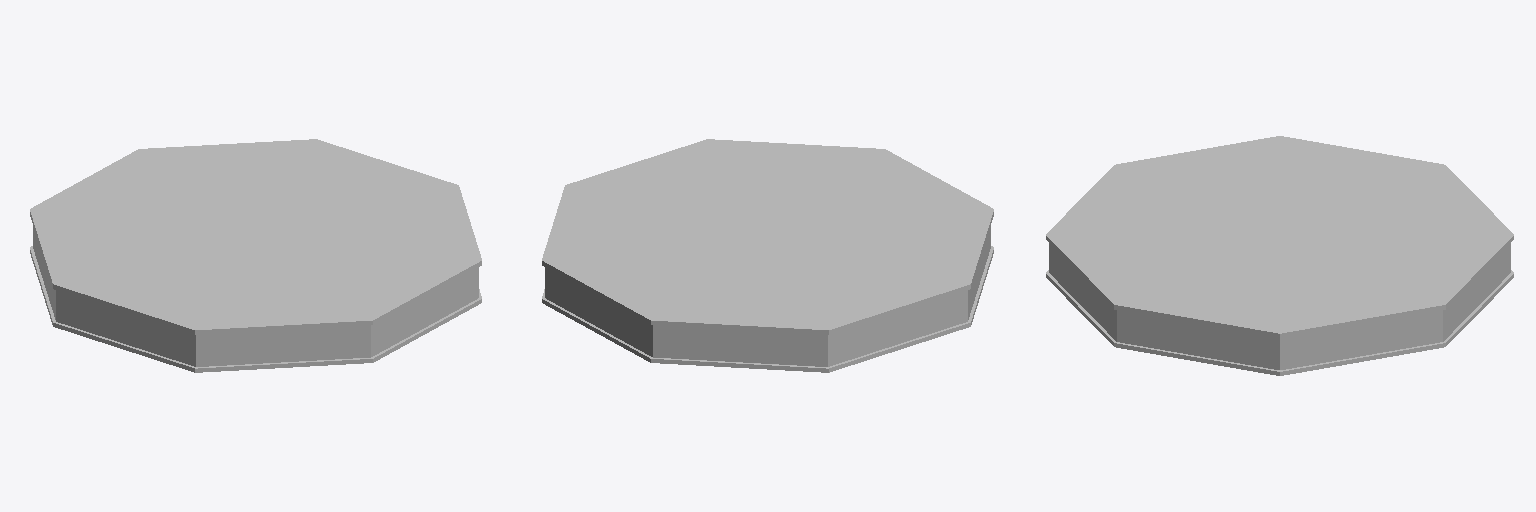
The model's file is decoupler_3m_simple.obj.
The picture shows the model from 3 angles: view 1: azimuth 30°, elevation 25°; view 2: azimuth 150°, elevation 25°; view 3: azimuth 270°, elevation 25°; orthographic projection.
Parts seen in each view (by area): view 1: Cylinder; view 2: Cylinder; view 3: Cylinder.
Part boxes in pixels (x1,y1,x2,y2): Cylinder: (30, 139, 481, 372); Cylinder: (542, 139, 993, 372); Cylinder: (1046, 136, 1513, 375).
Bounding box in the file's own units: 3 × 0.3 × 3.